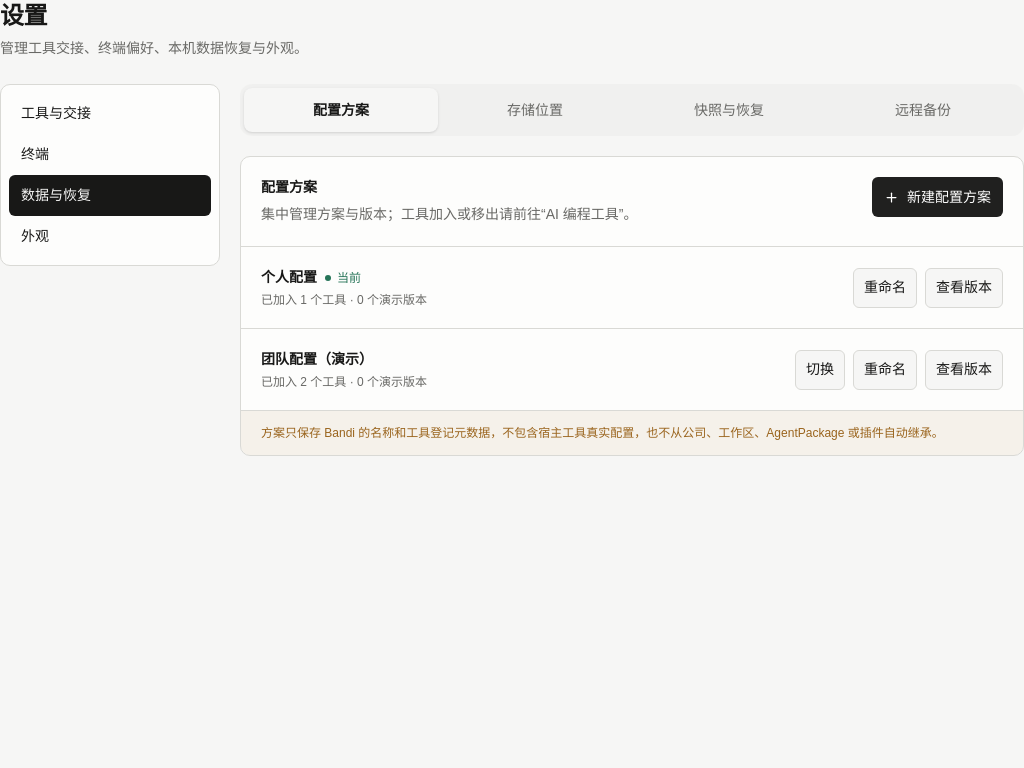
Scenario: 设置页 › 在配置与备份中新建空白方案并统一切换
The width and height of the screenshot is (1024, 768).
Click the button "新建配置方案" at (938, 197), box x1=872 y1=177 x2=1003 y2=217
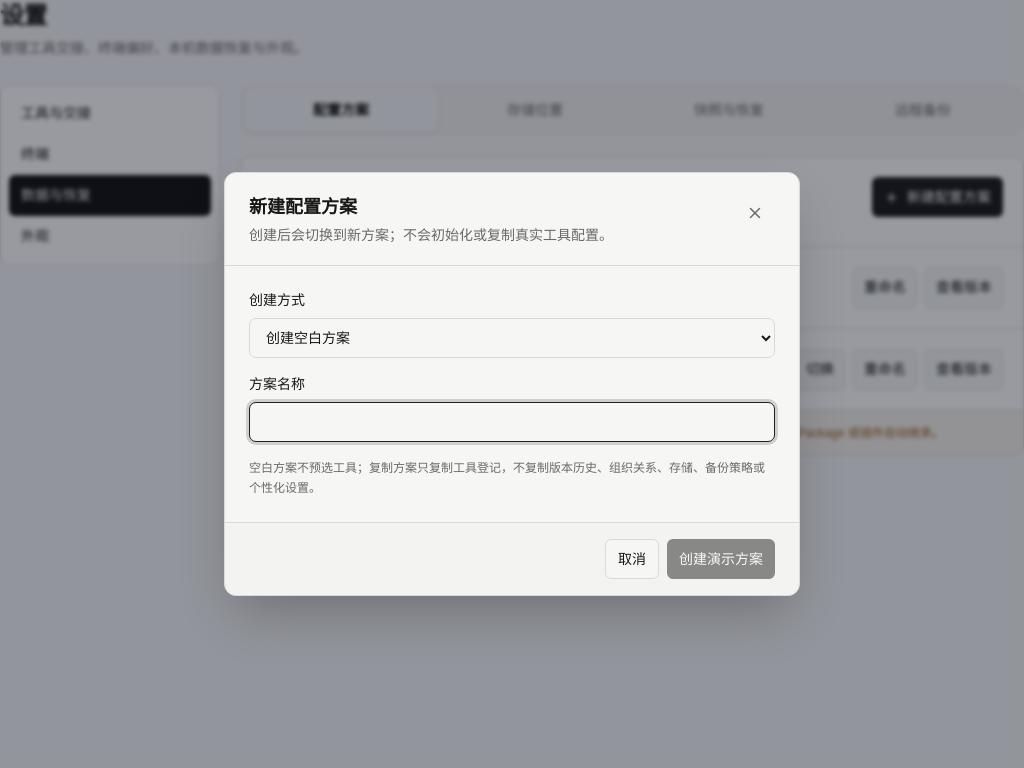
Type "Team B" into the field labelled "方案名称" at (512, 422), box x1=249 y1=402 x2=775 y2=442
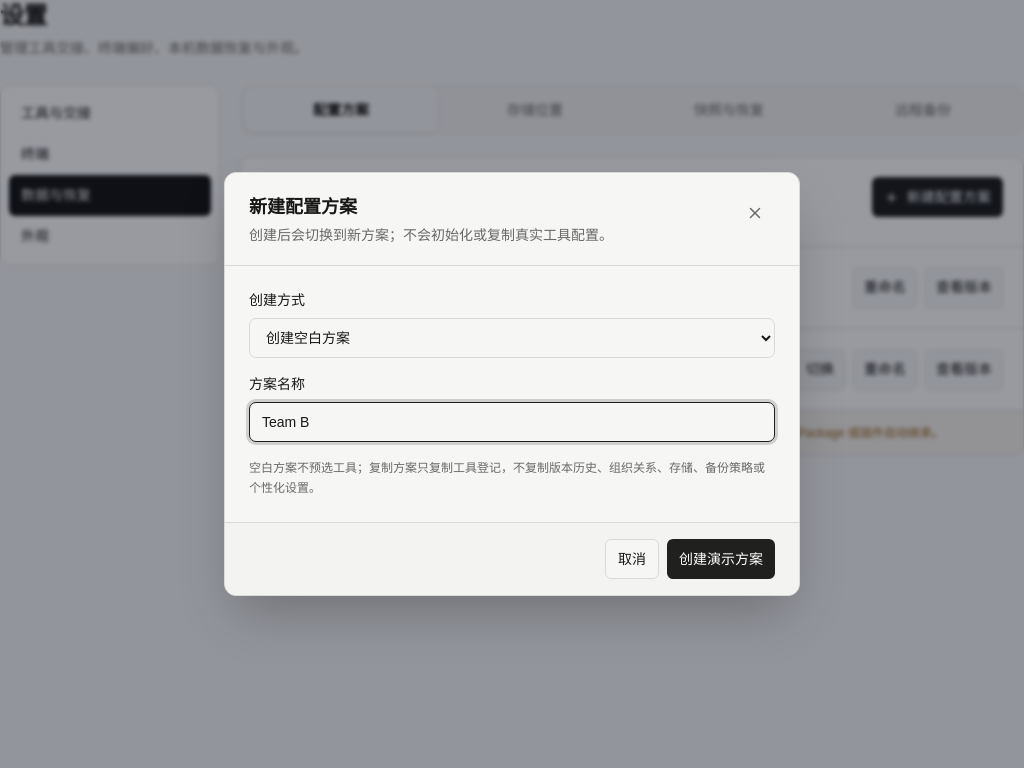
Click the button "创建演示方案" at (721, 559), box x1=667 y1=539 x2=775 y2=579
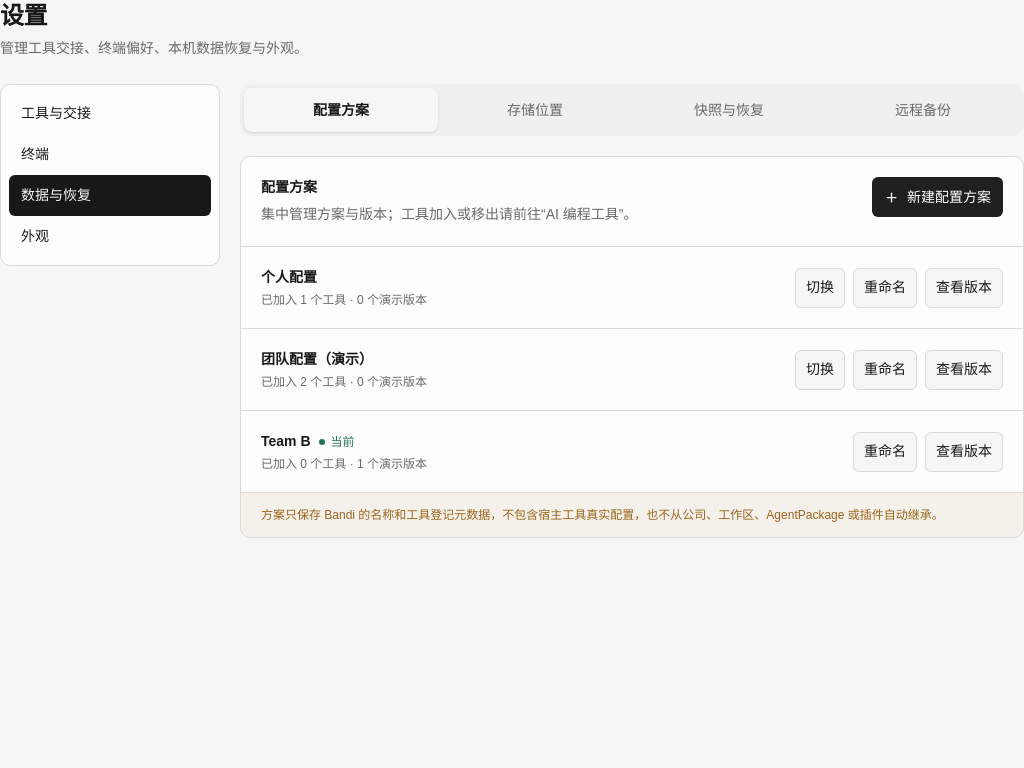
Expected: the text "当前" is shown, x1=318 y1=434 x2=354 y2=450
Expected: the text "Team B" is shown, x1=261 y1=431 x2=310 y2=452
Expected: the text "已加入 0 个工具 · 1 个演示版本" is shown, x1=261 y1=457 x2=427 y2=471
